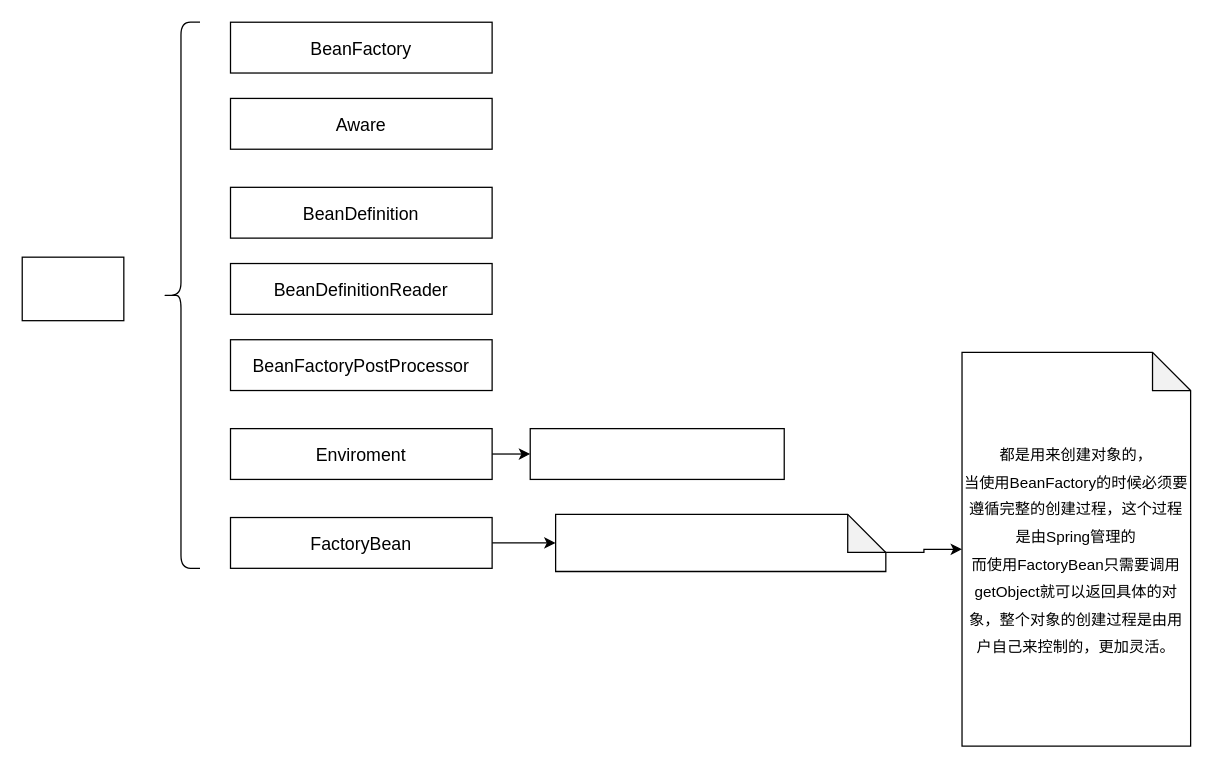
Some shapes in this 1213 by 768 pixel diagram are drawn without their labels. The shapes that lost their labels are listed below. From the top down, each one's centre as x and y in pixels, then its label:
At point 72,288: "接口".
At point 656,453: "StandardEnviroment".
At point 720,542: "BeanFactory和FactoryBean的区别".
